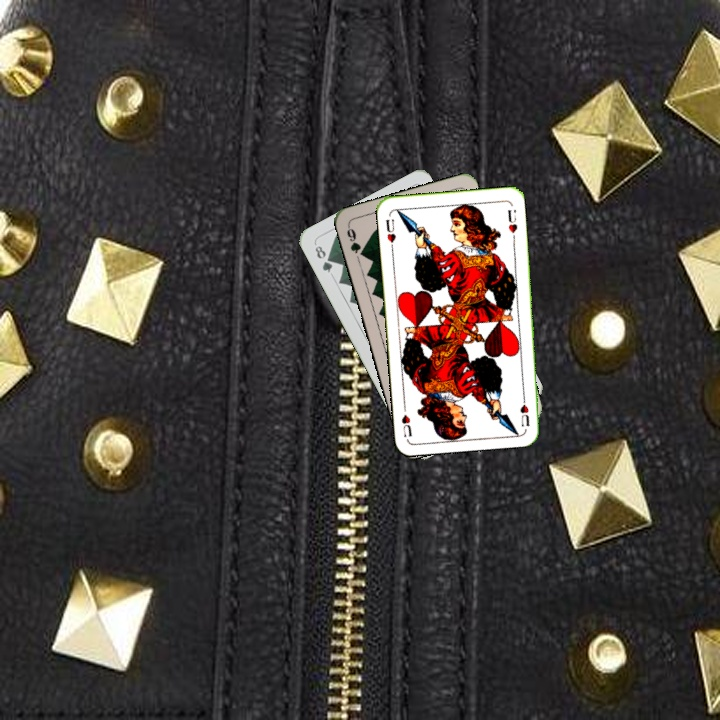G8: (311, 241, 335, 275)
G9: (343, 222, 368, 260)
HU: (516, 389, 532, 429), (382, 215, 398, 252)
